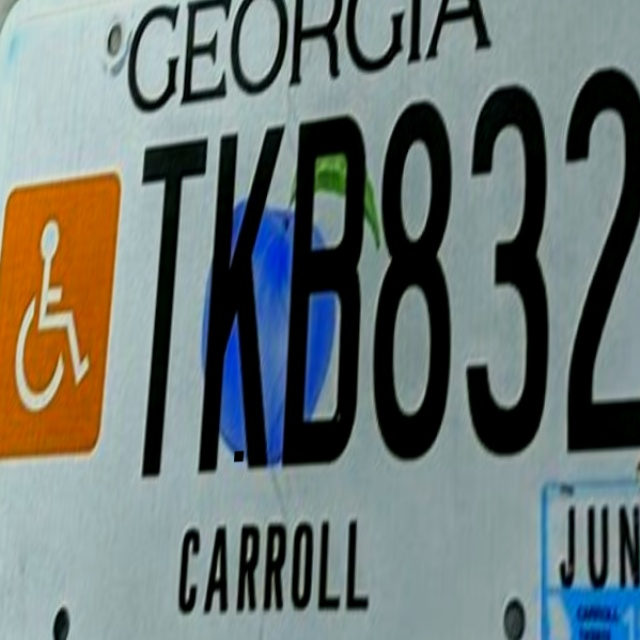ISA: (6, 208, 109, 422)
